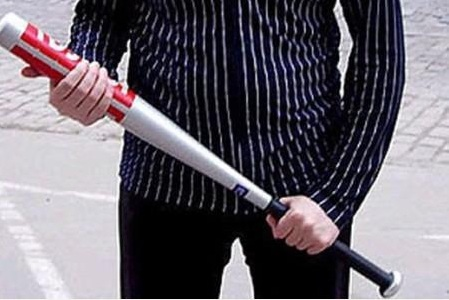bita: (1, 15, 398, 293)
